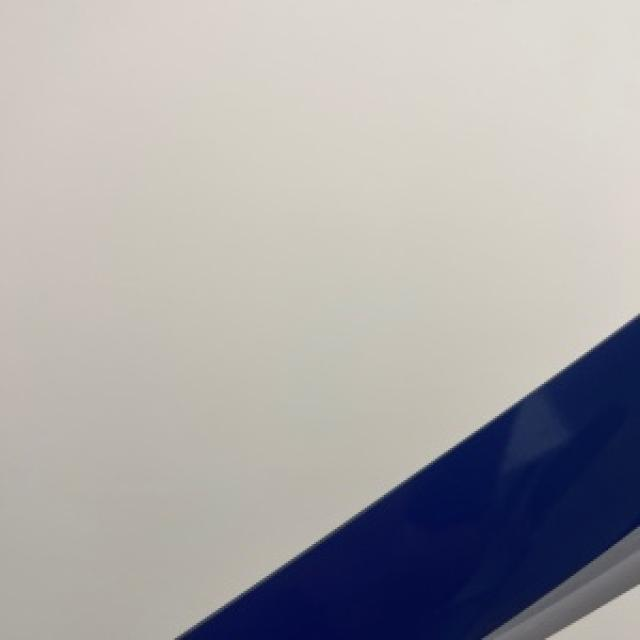healthy: (179, 314, 638, 638)
